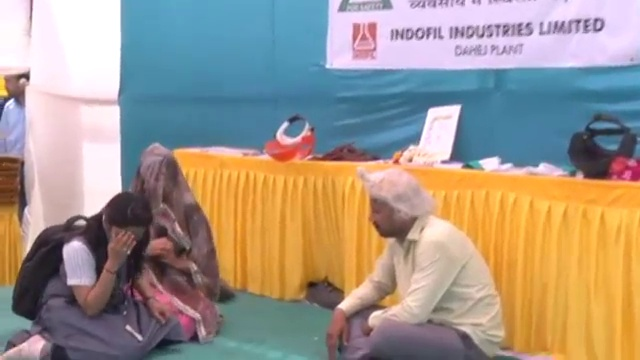helmet_off: (358, 173, 429, 251), (89, 189, 149, 249), (133, 150, 182, 216), (1, 72, 31, 99)
person: (316, 174, 513, 360), (8, 180, 169, 355), (124, 144, 219, 343), (0, 68, 31, 158)
